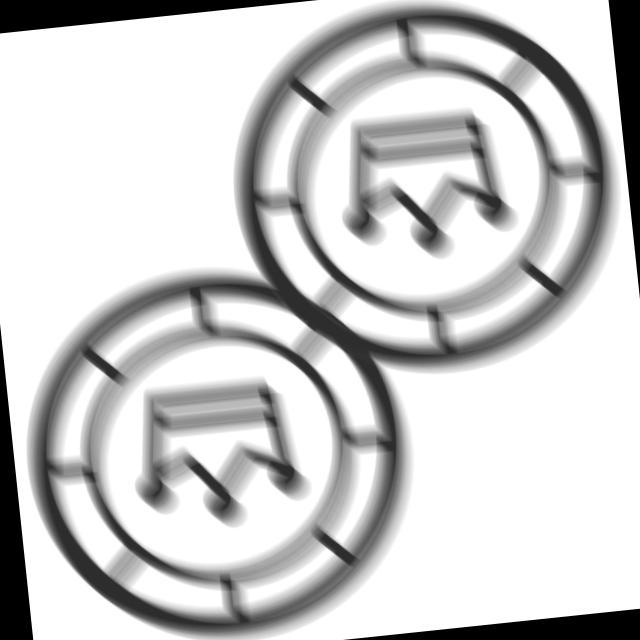coin: (213, 1, 640, 401), (3, 248, 437, 640)
